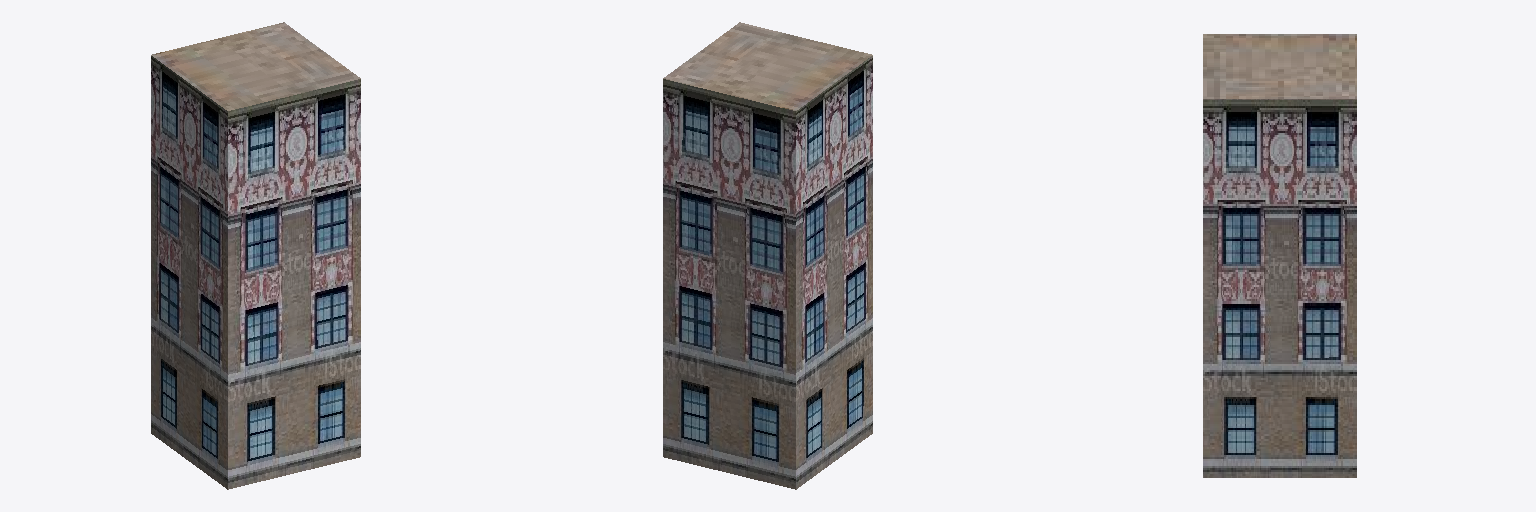
The picture shows the model from 3 angles: view 1: azimuth 30°, elevation 25°; view 2: azimuth 150°, elevation 25°; view 3: azimuth 270°, elevation 25°; orthographic projection.
Parts seen in each view (by area): view 1: Cube; view 2: Cube; view 3: Cube.
Part boxes in pixels (bbox=[...]): Cube: bbox=[151, 22, 360, 489]; Cube: bbox=[663, 22, 872, 489]; Cube: bbox=[1203, 34, 1356, 477].
Bounding box in the file's own units: 2 × 5.41 × 2.
1 materials, 1 textured.